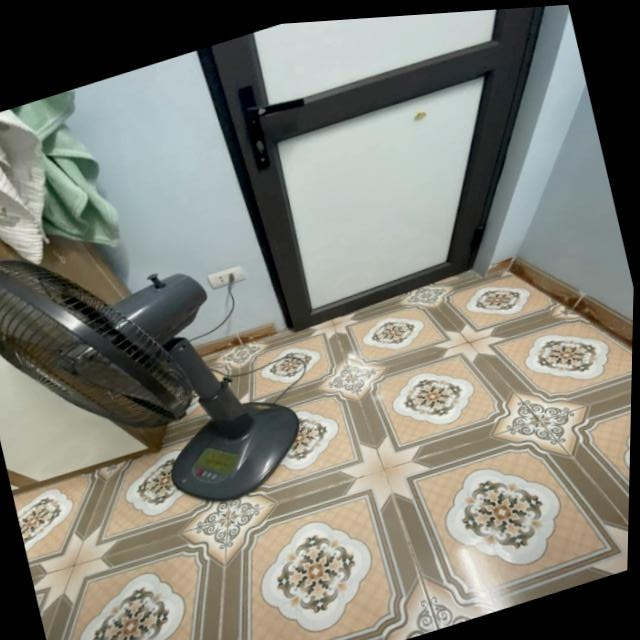outlet: (208, 263, 247, 290)
